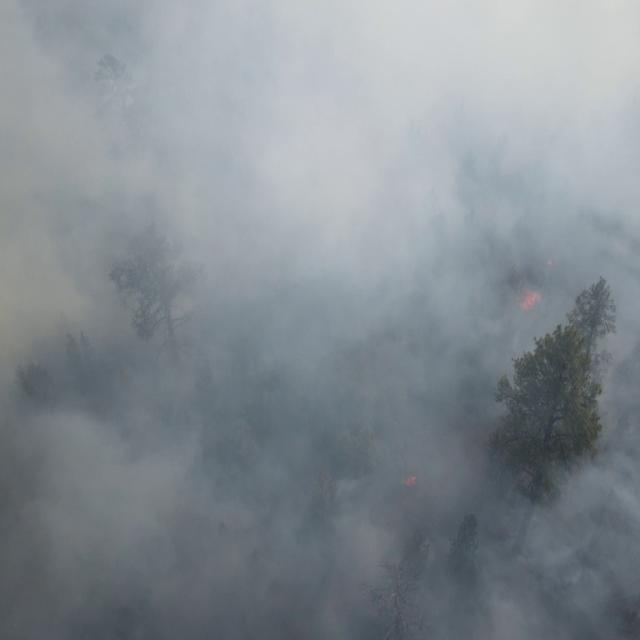fire: (516, 292, 539, 312), (402, 474, 418, 490)
smoke: (0, 0, 640, 640)
